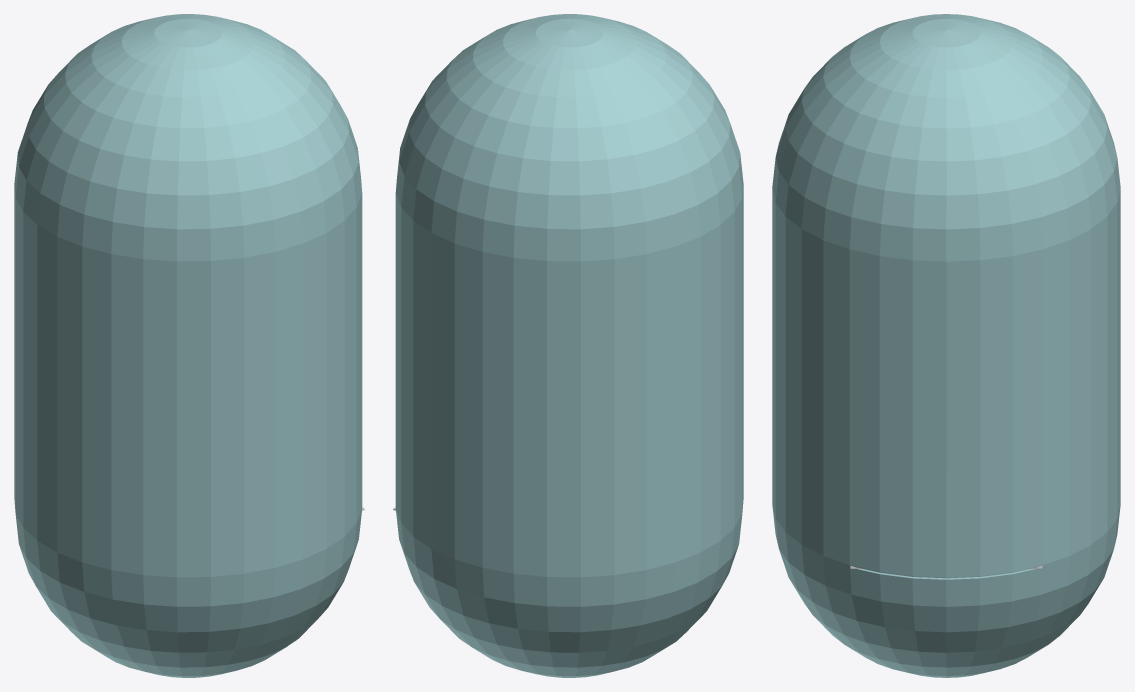
Rendered from Animation-AscenseurCapsule-AvecMateriaux.fbx.
3 renders of one model, left to right at view 1: azimuth 30°, elevation 25°; view 2: azimuth 150°, elevation 25°; view 3: azimuth 270°, elevation 25°, orthographic.
Visible parts, largest first — view 1: Cabine, Toit, Sol; view 2: Cabine, Toit, Sol; view 3: Cabine, Toit, Sol, PorteGauche, PorteDroite.
Part boxes in pixels (x1,y1,x2,y2): Cabine: (14,184,362,577); Toit: (14,14,362,261); Sol: (15,509,362,677); Cabine: (395,184,743,577); Toit: (395,14,743,261); Sol: (395,509,742,677); Cabine: (772,189,1120,564); Toit: (772,14,1120,261); Sol: (772,505,1120,677); PorteGauche: (849,356,946,577); PorteDroite: (946,356,1043,577).
Bounding box in the file's own units: 200 × 400 × 200.
